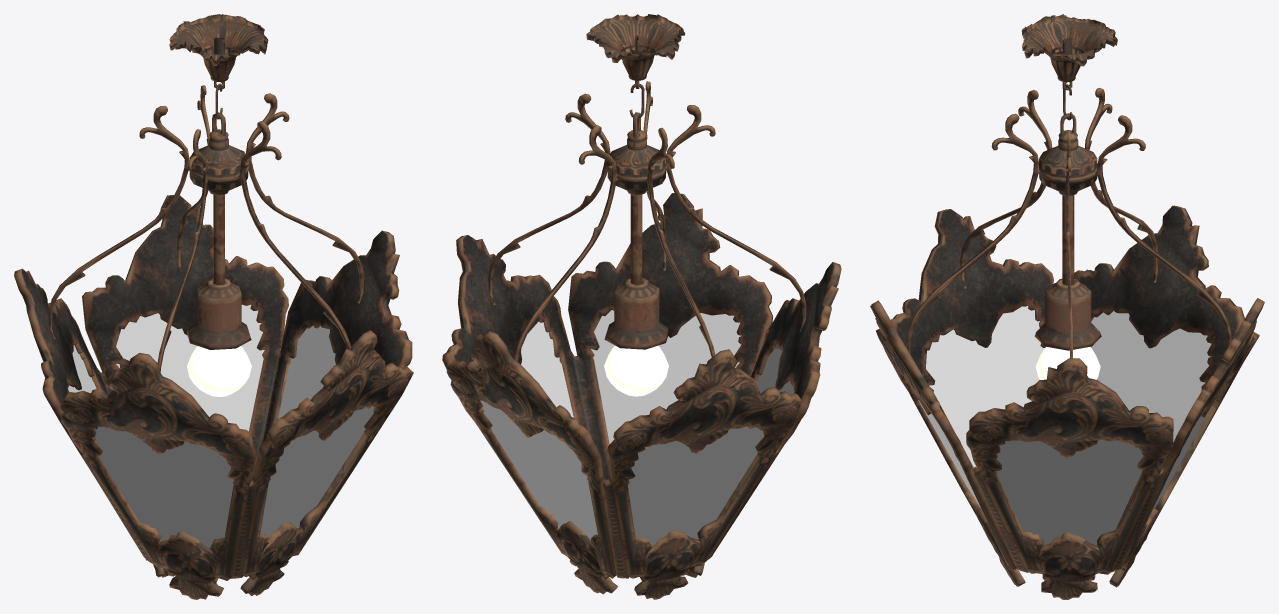
Rendered from lantern_chandelier_01_1k.fbx.
3 views of the same model, side by side, from view 1: azimuth 30°, elevation 25°; view 2: azimuth 150°, elevation 25°; view 3: azimuth 270°, elevation 25° (orthographic).
Visible parts, largest first — view 1: lantern_chandelier_01; view 2: lantern_chandelier_01; view 3: lantern_chandelier_01.
Part boxes in pixels (box(x1,y1,x2,y2)): lantern_chandelier_01: box(14, 14, 413, 599); lantern_chandelier_01: box(442, 14, 841, 599); lantern_chandelier_01: box(870, 14, 1264, 599).
Size of the model in its own units: 57.92 by 87.76 by 57.46.
